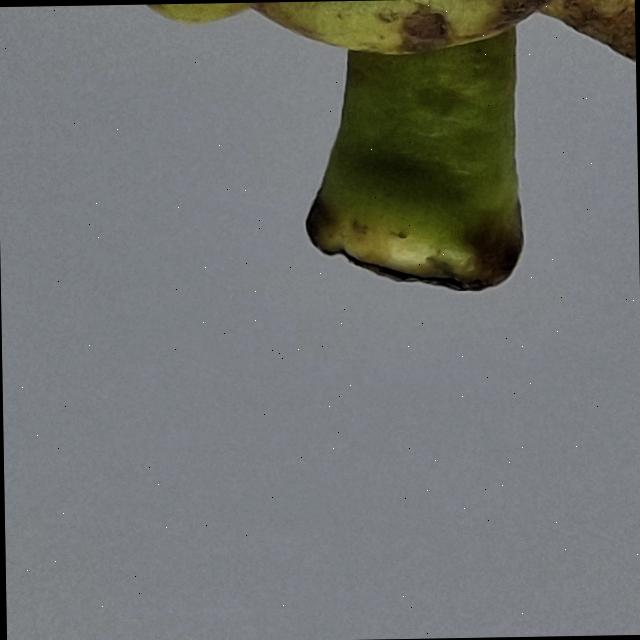mangosteen: (0, 0, 640, 335)
